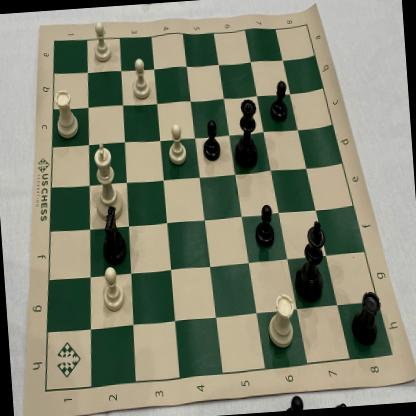black-king: (287, 217, 331, 306)
black-knight: (96, 202, 132, 266)
black-pawn: (251, 200, 278, 254), (267, 76, 291, 126), (199, 117, 223, 164)
black-queen: (230, 94, 261, 170)
black-rook: (348, 287, 386, 349), (263, 290, 298, 350)
white-king: (89, 136, 125, 223)
white-pawn: (99, 265, 127, 314), (166, 121, 190, 170), (128, 55, 152, 102), (90, 20, 113, 64)
white-rook: (51, 87, 82, 140)
